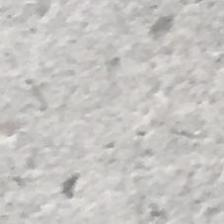Non_Crack: (25, 42, 198, 224)
